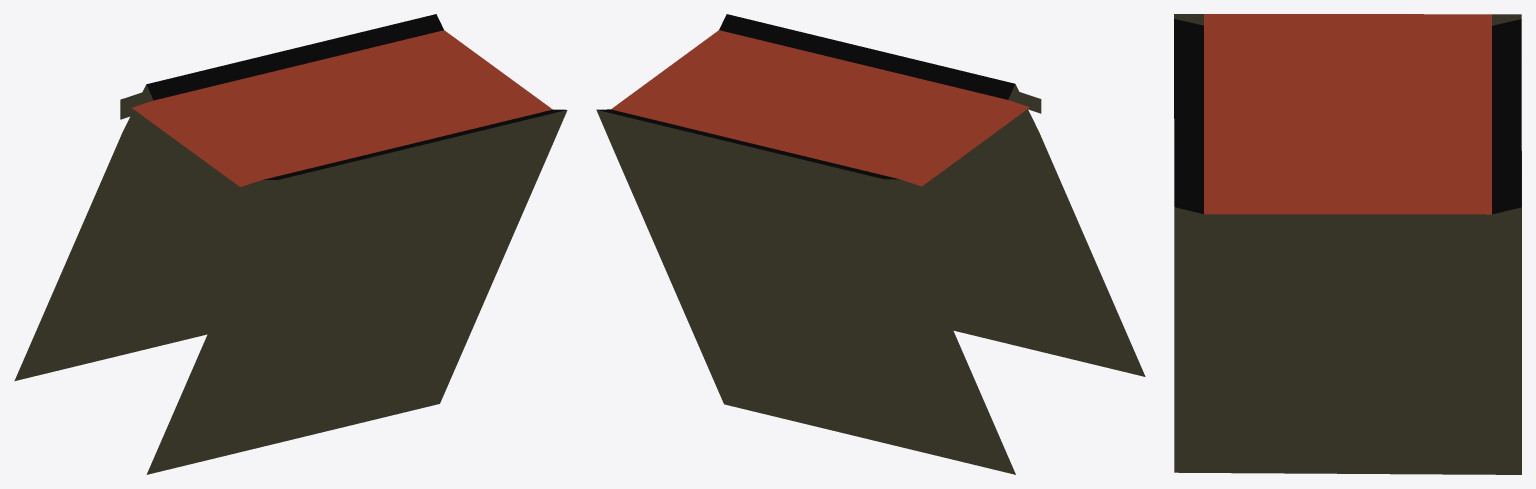
The model's file is RampCollision.obj.
3 renders of one model, left to right at view 1: azimuth 30°, elevation 25°; view 2: azimuth 150°, elevation 25°; view 3: azimuth 270°, elevation 25°, orthographic. The views are drawn at different scales.
Size of the model in its own units: 59.15 by 35.56 by 31.88.
Materials: 3 (3 with a texture image).
